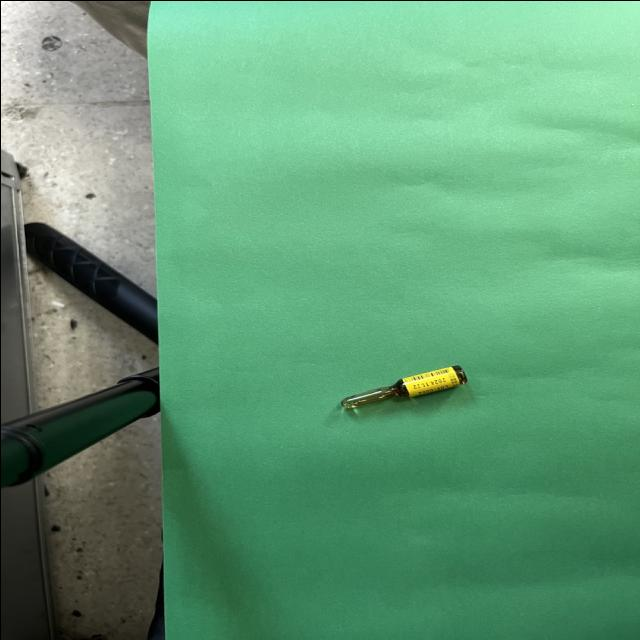Ampoules: (340, 364, 467, 408)
